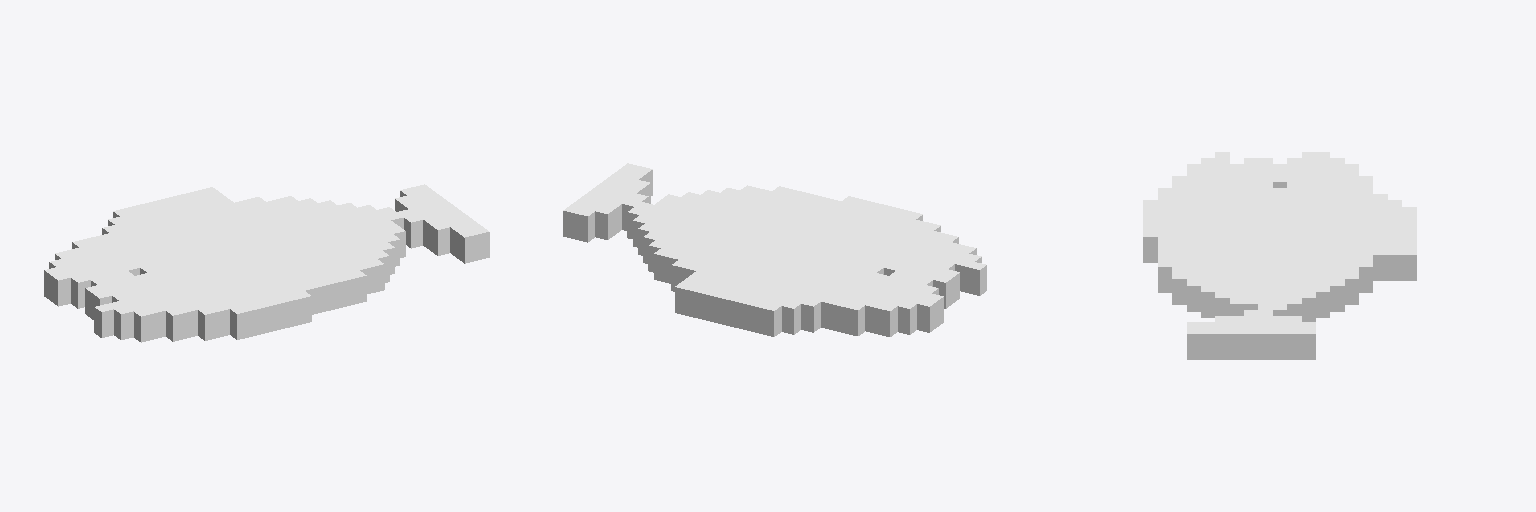
File: sakana.vox.obj
3 renders of one model, left to right at view 1: azimuth 30°, elevation 25°; view 2: azimuth 150°, elevation 25°; view 3: azimuth 270°, elevation 25°, orthographic.
Visible parts, largest first — view 1: object 1; view 2: object 1; view 3: object 1.
Boxes of the visible parts, <box> form: object 1: <box>44,184,489,342</box>; object 1: <box>563,163,986,336</box>; object 1: <box>1143,152,1416,359</box>.
Bounding box in the file's own units: 3 × 0.2 × 1.9.